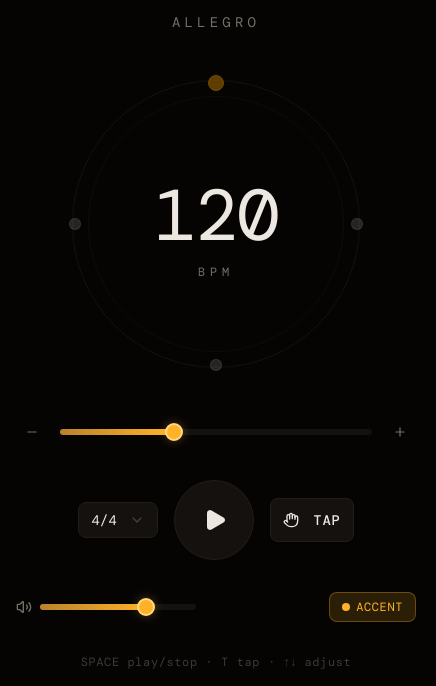
Test: Metronome component › BPM adjustment buttons › increase button increases BPM by 1
Click the button named "increase bpm" at [400, 432], box [384,416,416,448]
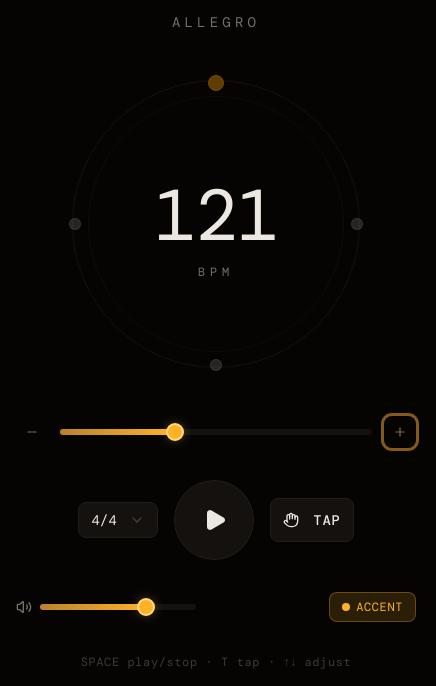
Check: the field named "bpm" holds "121", box [144,168,288,262]
